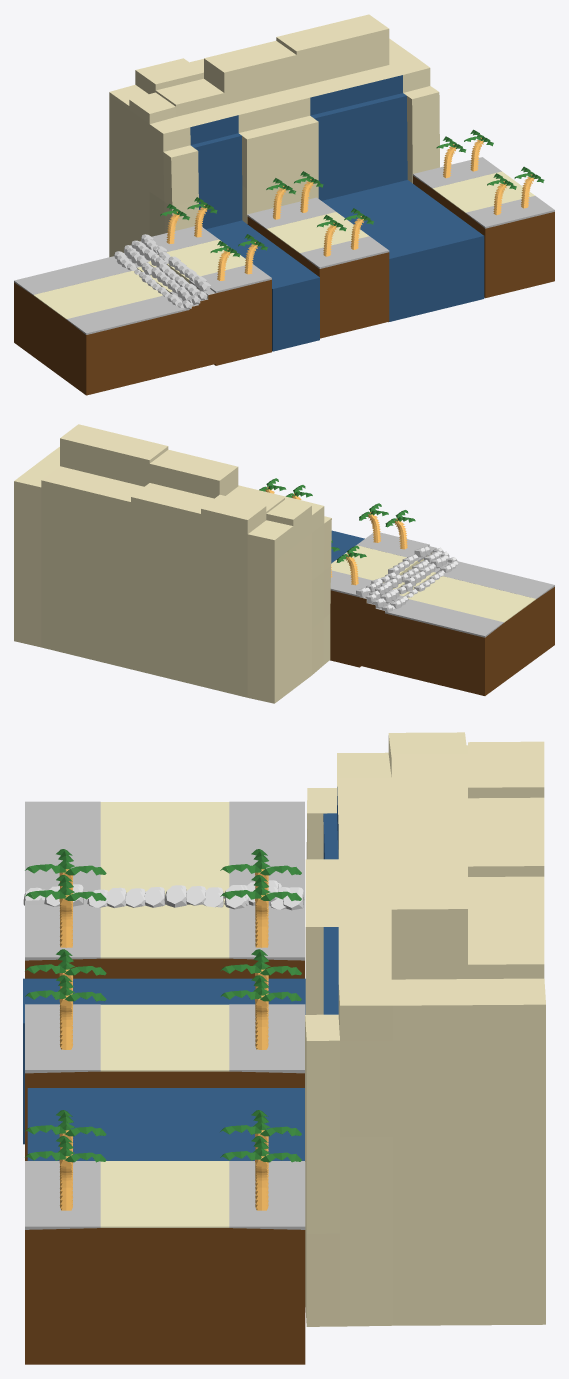
The model's file is Platform2.fbx.
3 views of the same model, one above another, from view 1: azimuth 30°, elevation 25°; view 2: azimuth 150°, elevation 25°; view 3: azimuth 270°, elevation 25° (orthographic). The views are drawn at different scales.
Parts seen in each view (by area): view 1: Cube.041, Cube.001, Cube.013; view 2: Cube.041, Cube.001, Cube.013; view 3: Cube.041, Cube.001, Cube.013.
Boxes of the visible parts, box(x1,y1,x2,y2) form: Cube.041: box(109, 14, 484, 351); Cube.001: box(14, 157, 554, 395); Cube.013: box(160, 129, 544, 280); Cube.041: box(14, 424, 364, 703); Cube.001: box(330, 532, 554, 695); Cube.013: box(259, 478, 415, 585); Cube.041: box(23, 732, 545, 1326); Cube.001: box(25, 801, 305, 1364); Cube.013: box(25, 849, 301, 1210).
Size of the model in its own units: 5689 by 2349 by 2842.
